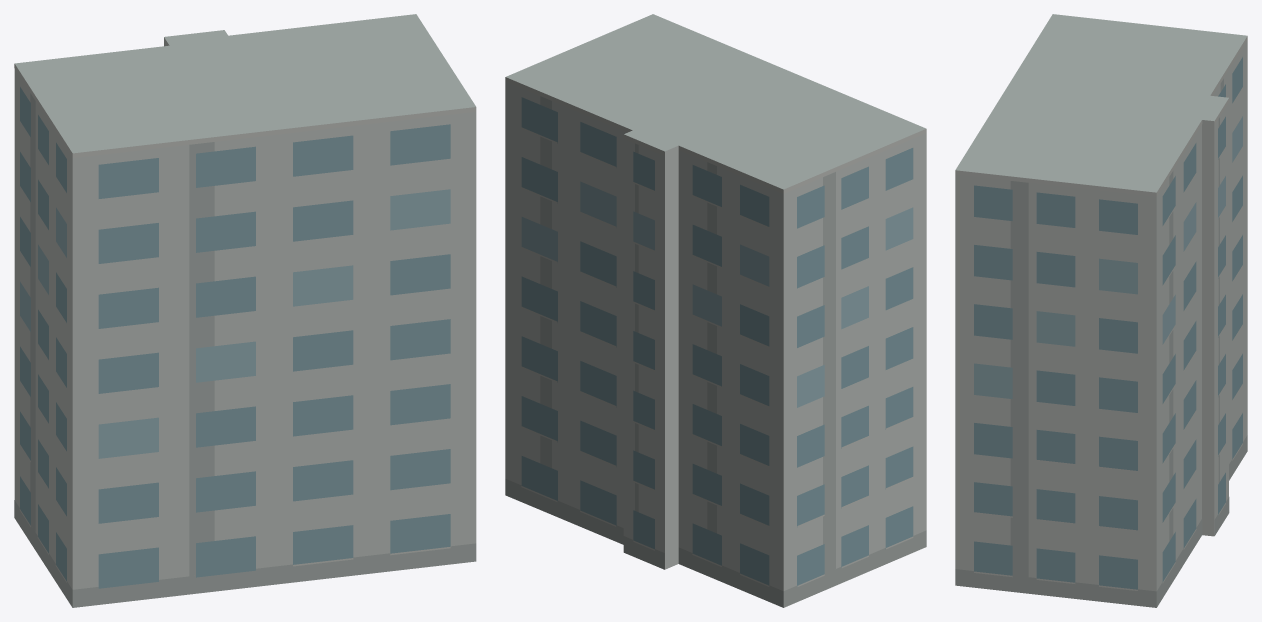
The model's file is survey-upis-32953539.glb.
3 views of the same model, side by side, from view 1: azimuth 30°, elevation 25°; view 2: azimuth 150°, elevation 25°; view 3: azimuth 270°, elevation 25° (orthographic). The views are drawn at different scales.
Parts seen in each view (by area): view 1: survey-upis-32953539.tmp; view 2: survey-upis-32953539.tmp; view 3: survey-upis-32953539.tmp.
Boxes of the visible parts, x1,y1,x2,y2 form: survey-upis-32953539.tmp: [14, 14, 476, 607]; survey-upis-32953539.tmp: [505, 14, 926, 607]; survey-upis-32953539.tmp: [955, 14, 1247, 607].
Size of the model in its own units: 21.13 by 22.9 by 14.62.
